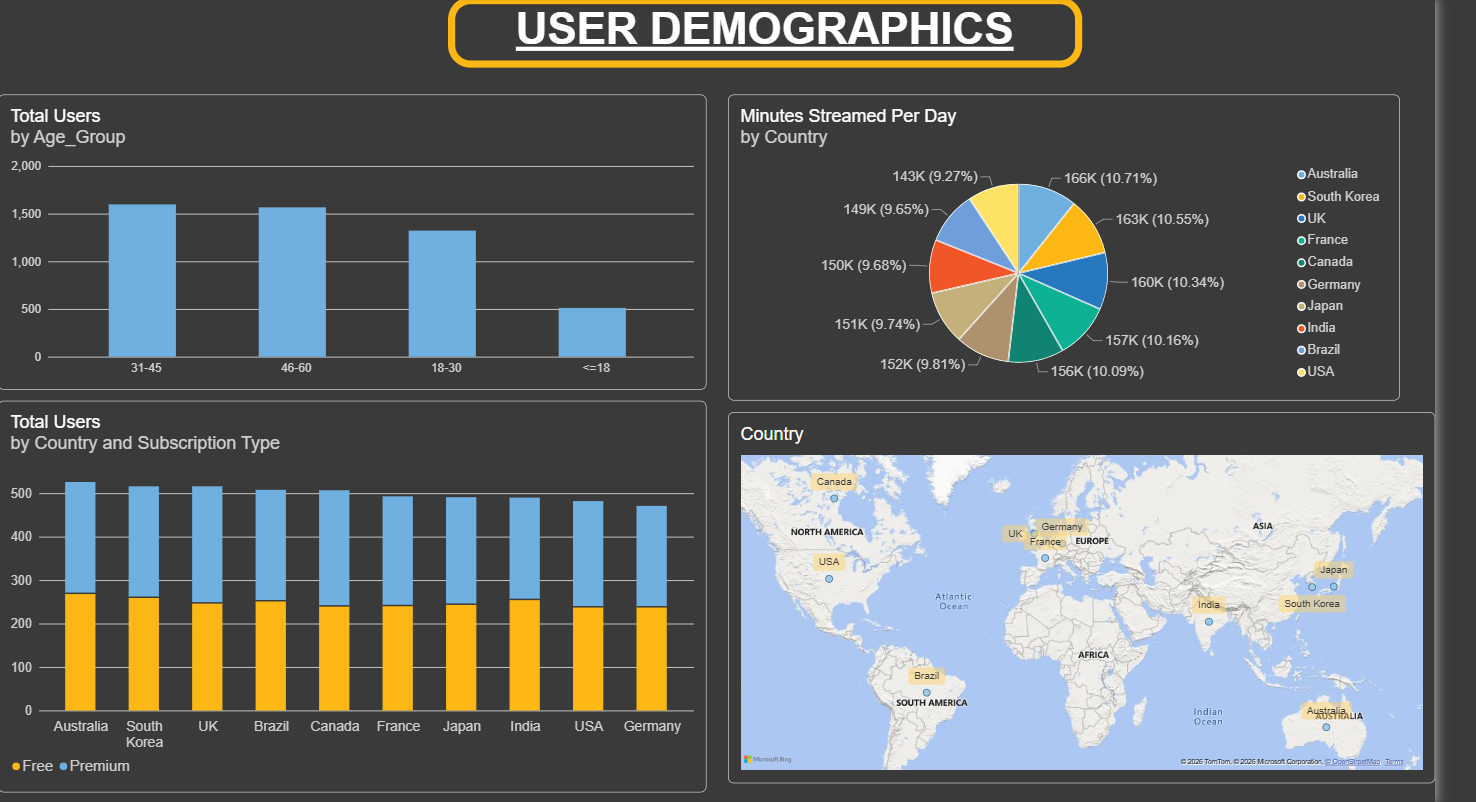

This screenshot's page, from the dashboard's own definition file:
{"tool":"powerbi","page":{"name":"USER DEMOGRAPHICS","canvas":[1920,1080],"ordinal":1},"visuals":[{"type":"textbox","box":[600.8,0,846.9,94.1],"z":0},{"type":"columnChart","fields":{"Category":["Global_Music_Streaming_Listener_Preferences.Age_Group"],"Y":["CountNonNull(Global_Music_Streaming_Listener_Preferences.User_ID)"]},"box":[0,130.3,946.5,394.5],"z":1000},{"type":"pieChart","fields":{"Category":["Global_Music_Streaming_Listener_Preferences.Country"],"Y":["Sum(Global_Music_Streaming_Listener_Preferences.Minutes Streamed Per Day)"]},"box":[975.4,130.3,897.6,409],"z":2000},{"type":"columnChart","fields":{"Category":["Global_Music_Streaming_Listener_Preferences.Country"],"Y":["CountNonNull(Global_Music_Streaming_Listener_Preferences.User_ID)"],"Series":["Global_Music_Streaming_Listener_Preferences.Subscription Type"]},"box":[0,539.3,946.5,523],"z":3000},{"type":"map","fields":{"Category":["Global_Music_Streaming_Listener_Preferences.Country"]},"box":[975.4,553.8,944.6,495.8],"z":4000}]}

Visuals, with their boxes on the page's 1920x1080 design canvas (x1, y1, x2, y2). These are canvas units, not pixel positions in the 1476x802 screenshot, which may show the page scaled, cropped or inside an application window:
textbox: rect(601, 0, 1448, 94)
columnChart - Global_Music_Streaming_Listener_Preferences.Age_Group x CountNonNull(Global_Music_Streaming_Listener_Preferences.User_ID): rect(0, 130, 946, 525)
pieChart - Global_Music_Streaming_Listener_Preferences.Country x Sum(Global_Music_Streaming_Listener_Preferences.Minutes Streamed Per Day): rect(975, 130, 1873, 539)
columnChart - Global_Music_Streaming_Listener_Preferences.Country x CountNonNull(Global_Music_Streaming_Listener_Preferences.User_ID): rect(0, 539, 946, 1062)
map - Global_Music_Streaming_Listener_Preferences.Country: rect(975, 554, 1920, 1050)
